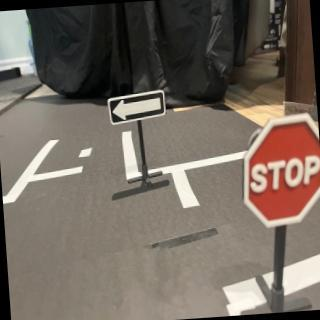sign_oneway_left: (108, 90, 167, 125)
sign_stop: (240, 111, 320, 227)
